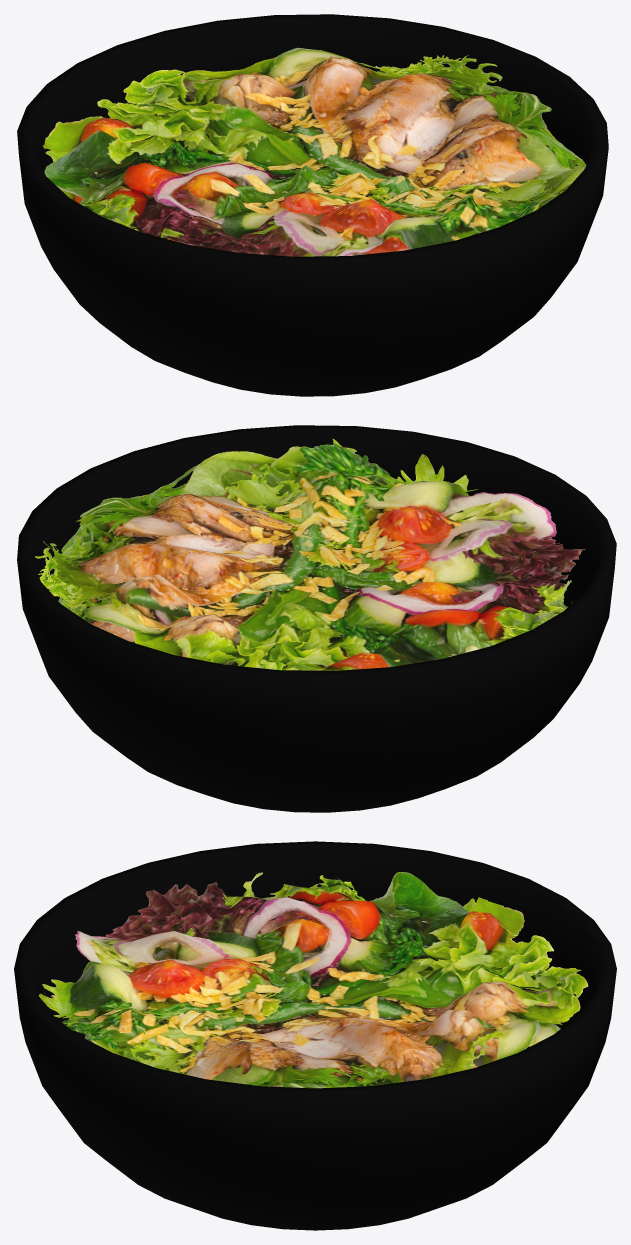
Rendered from Caesar_salad.fbx.
3 views of the same model, one above another, from view 1: azimuth 30°, elevation 25°; view 2: azimuth 150°, elevation 25°; view 3: azimuth 270°, elevation 25° (orthographic).
Visible parts, largest first — view 1: Bowl, caesar_salad_texture_01, caesar_salad_texture.02; view 2: Bowl, caesar_salad_texture_01, caesar_salad_texture.02; view 3: Bowl, caesar_salad_texture_01, caesar_salad_texture.02.
Boxes of the visible parts, x1,y1,x2,y2 form: Bowl: (17,14,608,396); caesar_salad_texture_01: (42,47,586,256); caesar_salad_texture.02: (60,165,584,255); Bowl: (17,425,616,812); caesar_salad_texture_01: (35,439,585,670); caesar_salad_texture.02: (58,572,569,642); Bowl: (14,841,616,1230); caesar_salad_texture_01: (38,872,588,1088); caesar_salad_texture.02: (50,970,569,1086).
Size of the model in its own units: 200 by 82.53 by 200.
2 materials, 1 textured.
